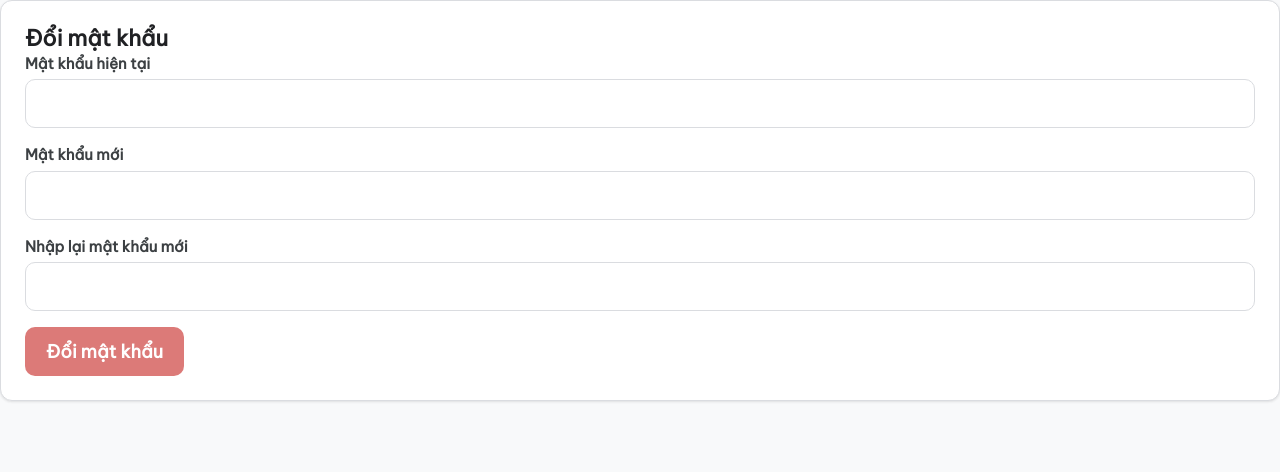
Test: Đổi mật khẩu — đường thành công › gửi đúng tham số tới /auth/doi-mat-khau và báo thành công
Type "matkhautam123" into the password field labelled "Mật khẩu hiện tại".
click(640, 104); type("matkhautam123")  # box [25,79,1255,128]
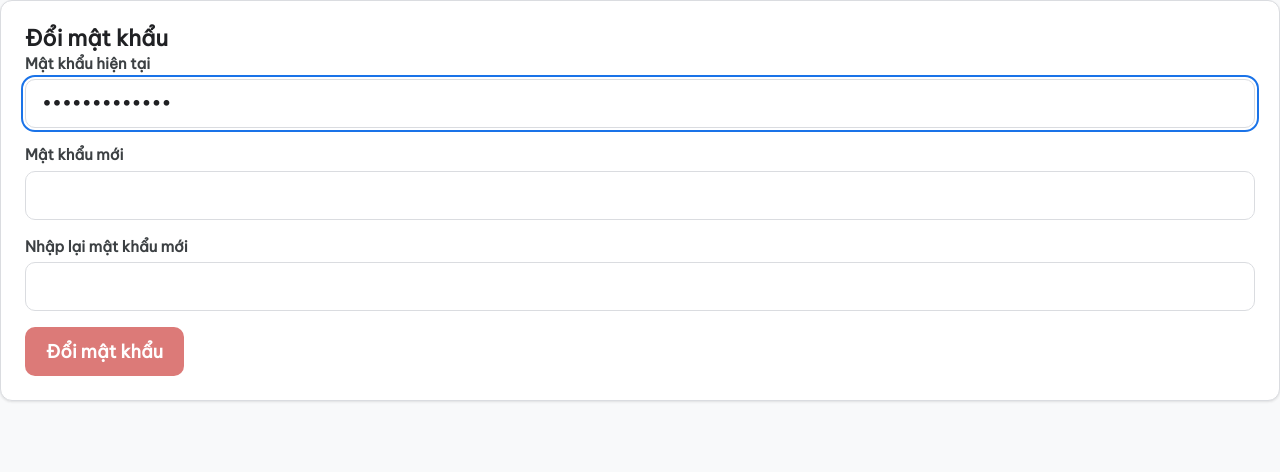
Type "matkhaurieng2026" into the password field labelled "Mật khẩu mới".
click(640, 195); type("matkhaurieng2026")  # box [25,170,1255,220]
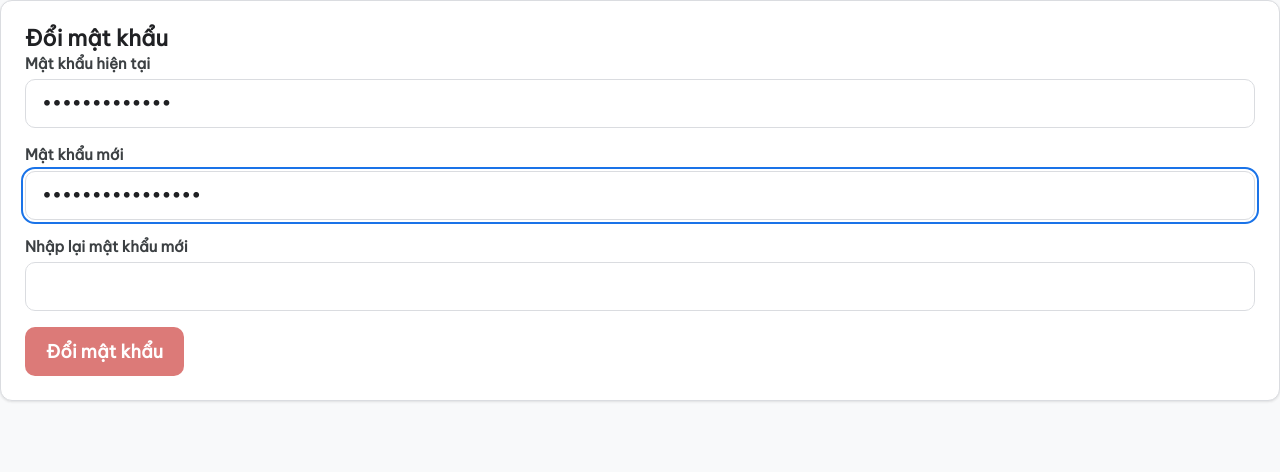
Type "matkhaurieng2026" into the password field labelled "Nhập lại mật khẩu mới".
click(640, 286); type("matkhaurieng2026")  # box [25,262,1255,311]
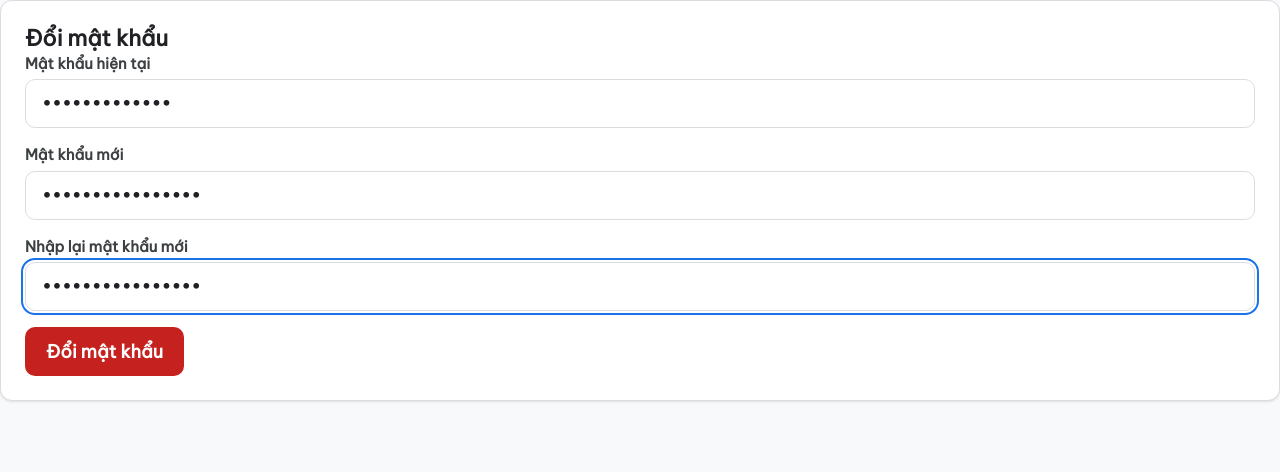
Click the button "Đổi mật khẩu".
click(104, 352)  # box [25,327,184,376]
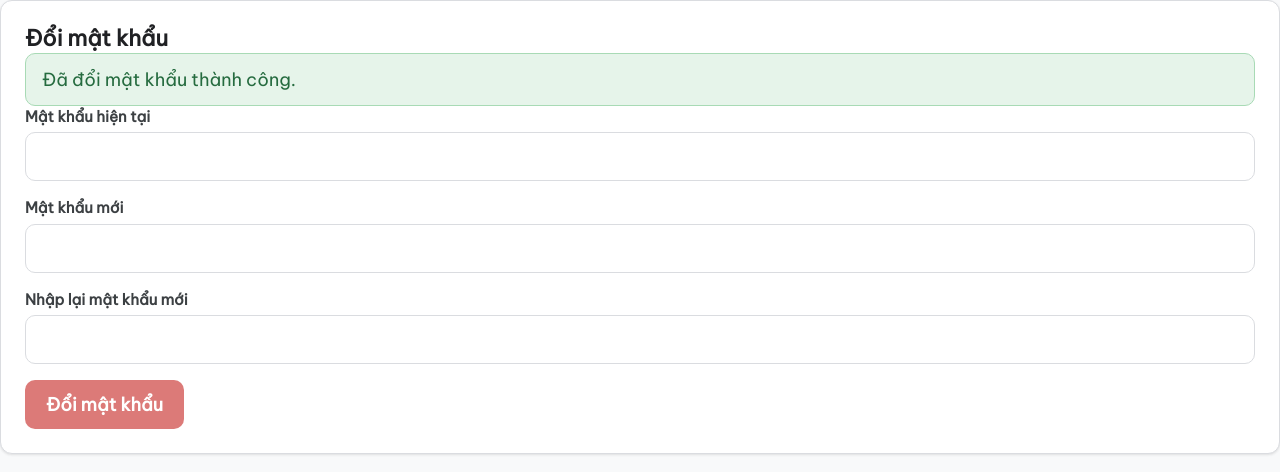
Expected: the text "Đã đổi mật khẩu thành công." is shown, [25,52,1255,106]
